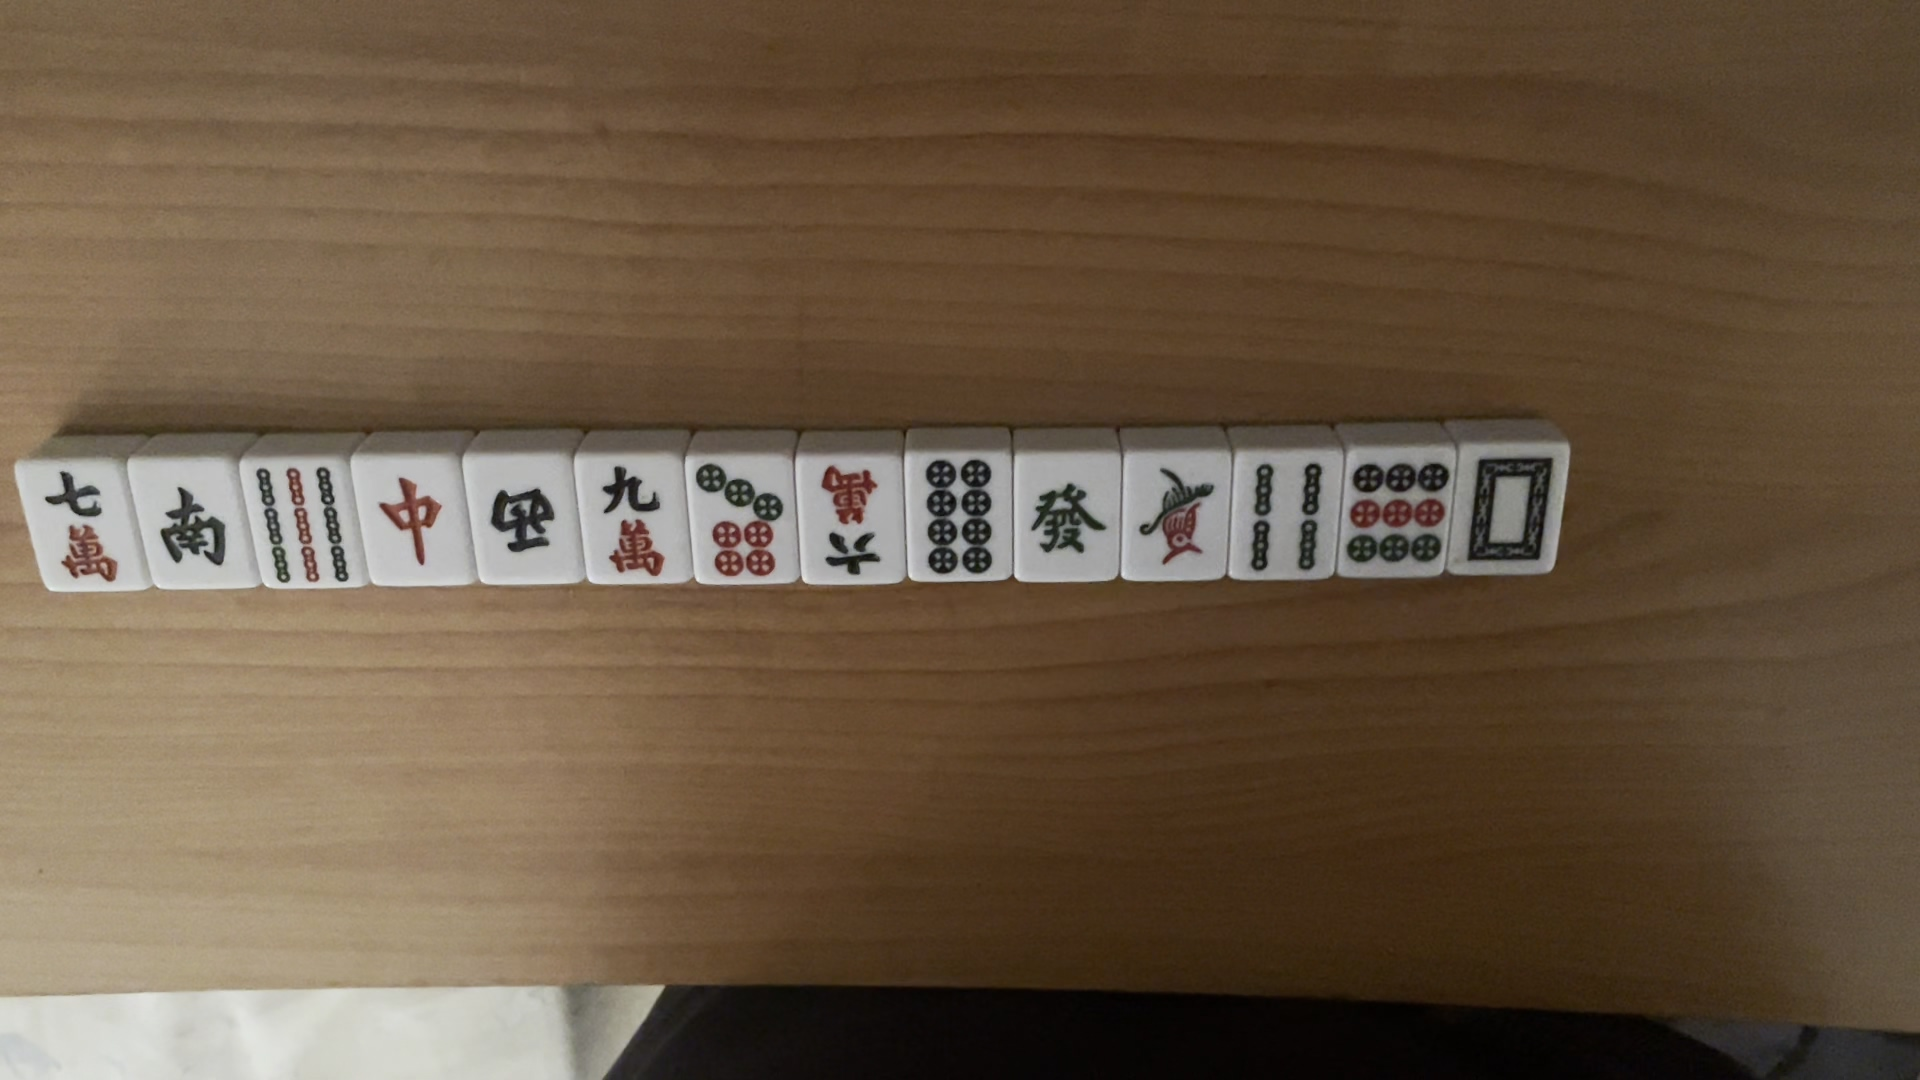b-1: (1141, 460, 1220, 568)
b-4: (1249, 463, 1328, 578)
b-9: (255, 463, 344, 589)
c-6: (808, 467, 890, 588)
c-7: (40, 465, 131, 585)
c-9: (596, 459, 678, 583)
d-7: (694, 462, 787, 585)
d-8: (916, 458, 994, 580)
d-9: (1346, 454, 1451, 572)
honors-green: (1031, 476, 1104, 568)
honors-red: (368, 472, 454, 580)
honors-south: (152, 469, 232, 583)
honors-west: (487, 475, 560, 574)
honors-white: (1464, 454, 1560, 572)
